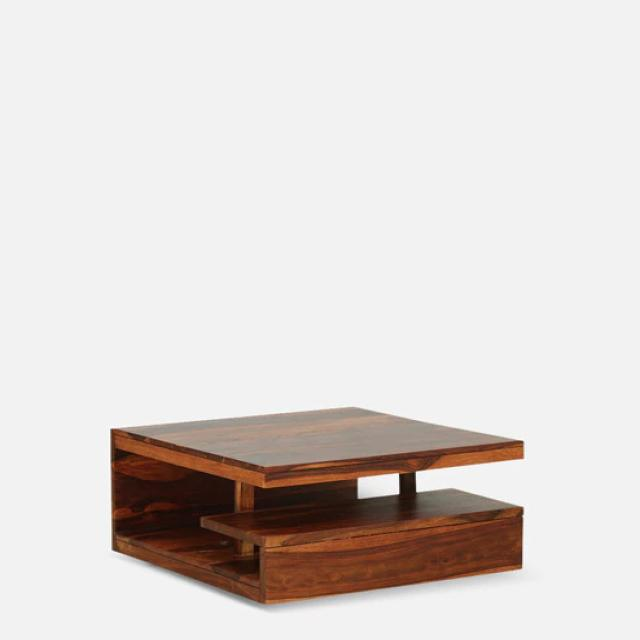obstacle: (80, 346, 580, 609)
